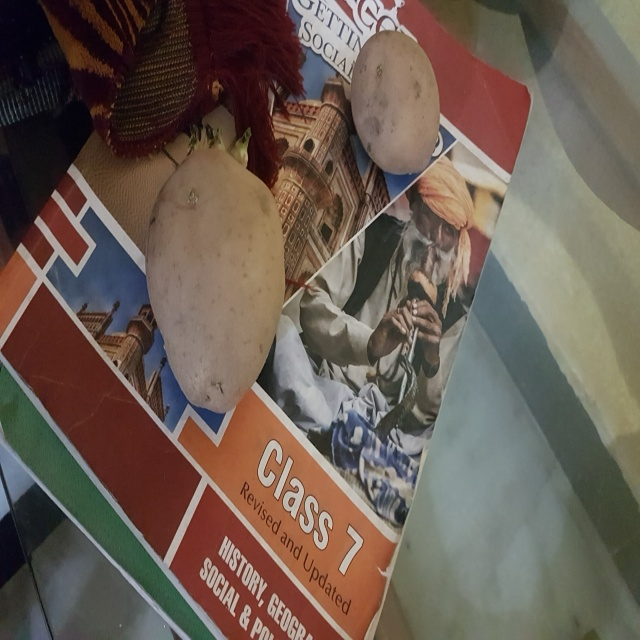potato: (144, 138, 283, 409), (349, 23, 446, 178)
